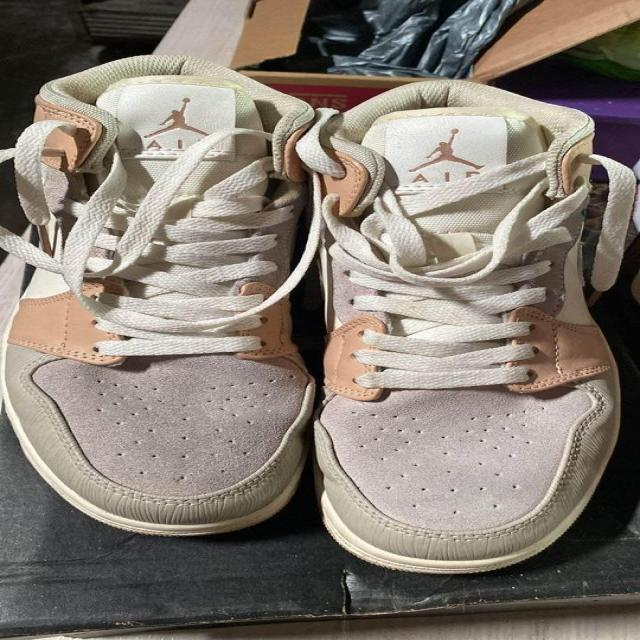nike fake jordan 1: (302, 83, 640, 577), (3, 55, 317, 537)
